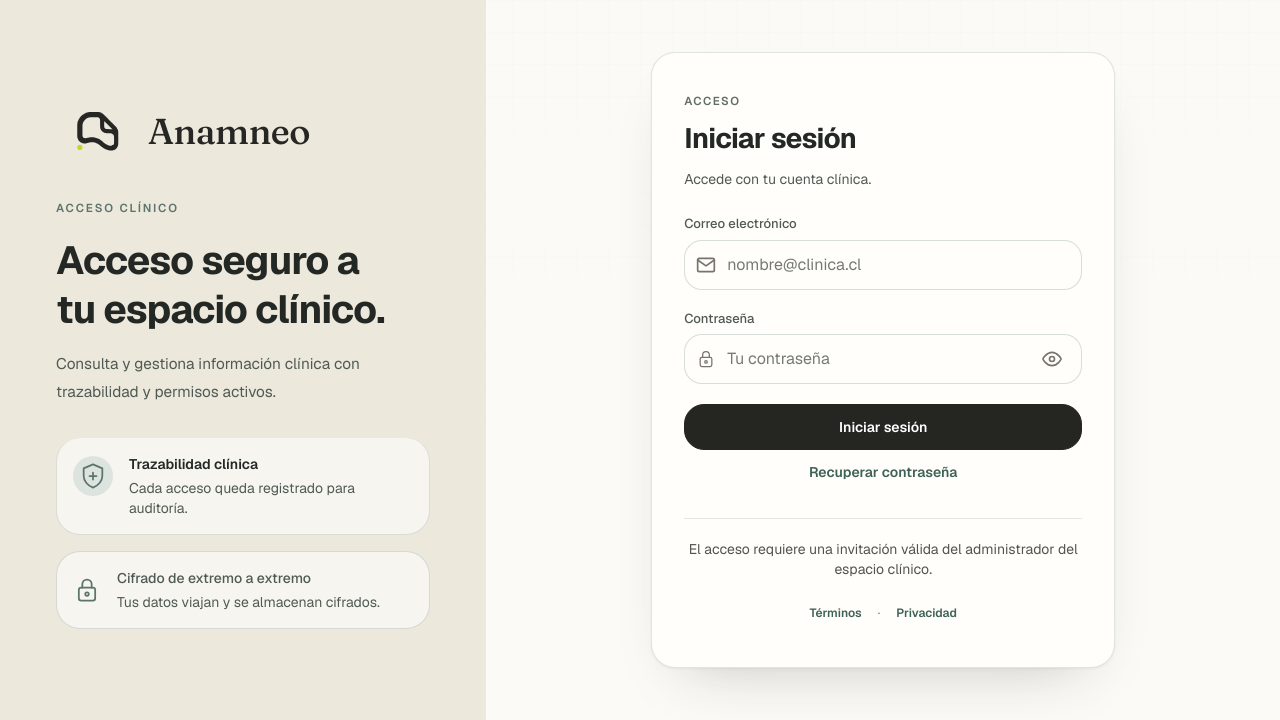
Test: LoginPage › shows lockout detail when backend returns a specific 401 message
Step 1. Type "doc@test.cl" into the field labelled "Correo electrónico" → (883, 264), box [684, 240, 1082, 290]
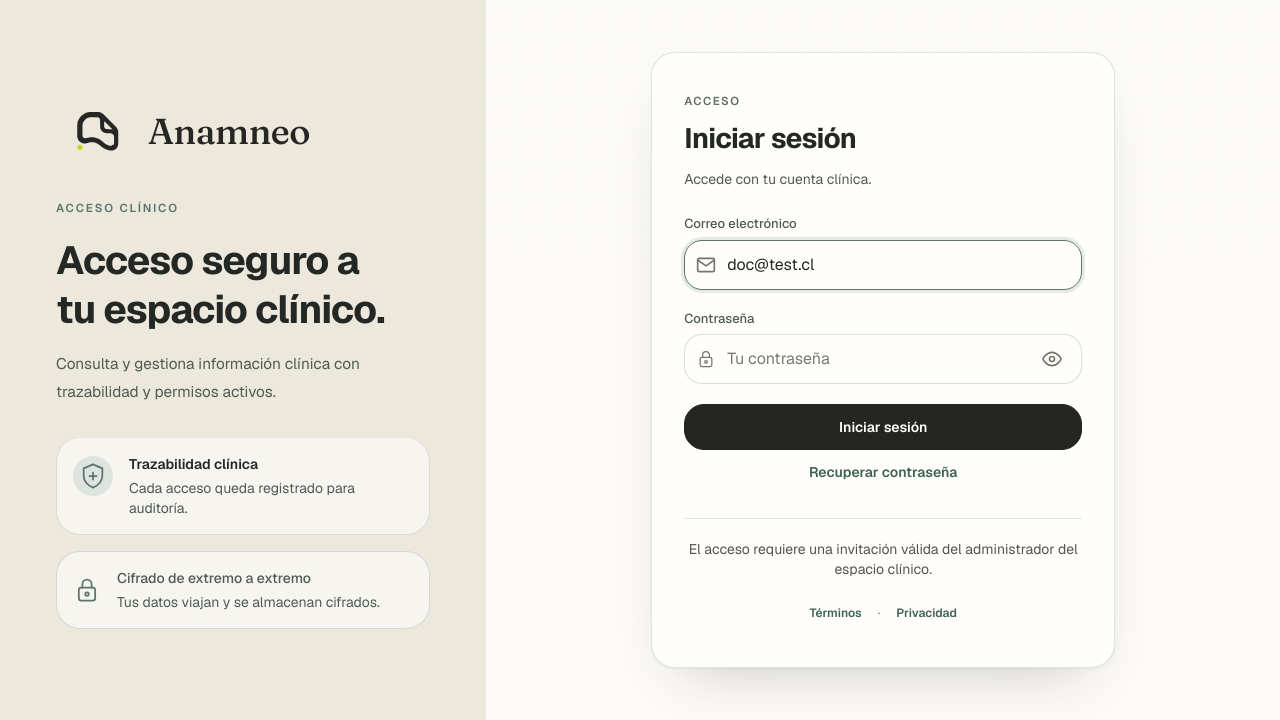
Step 2. Type "wrong" into the password field labelled "Contraseña" → (883, 359), box [684, 334, 1082, 384]
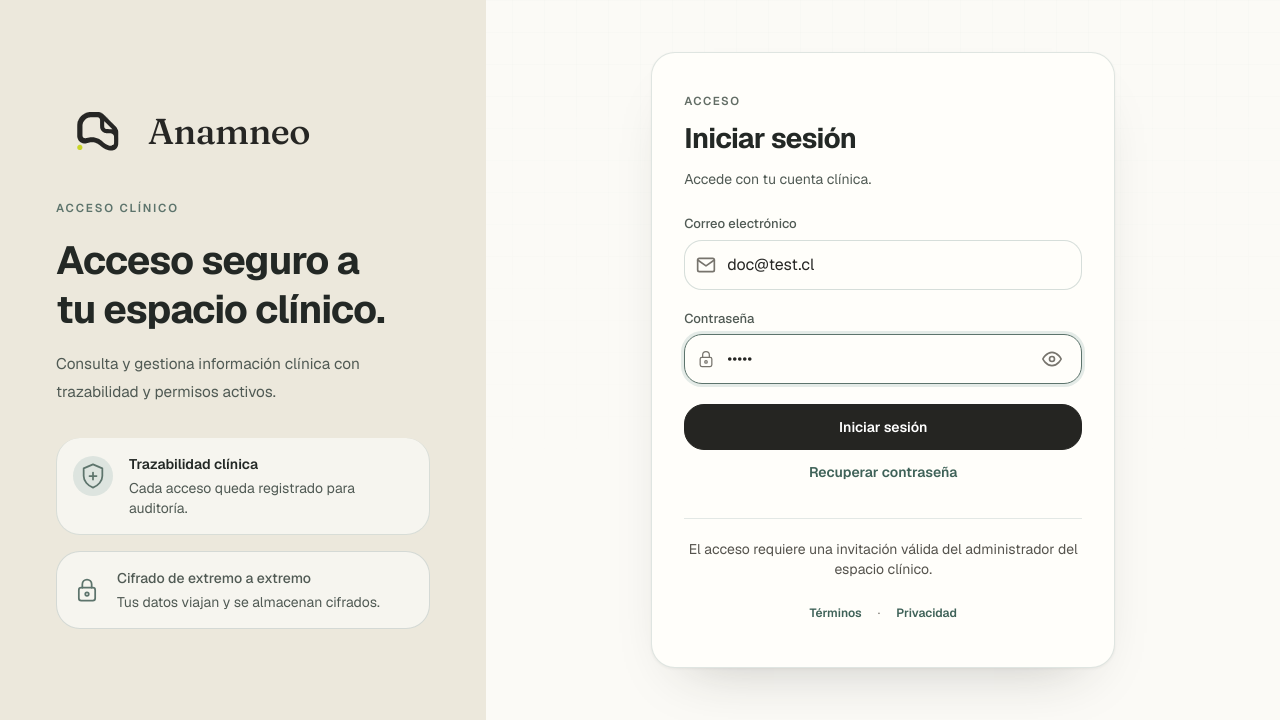
Step 3. Click the button "Iniciar sesión" → (883, 427), box [684, 404, 1082, 450]
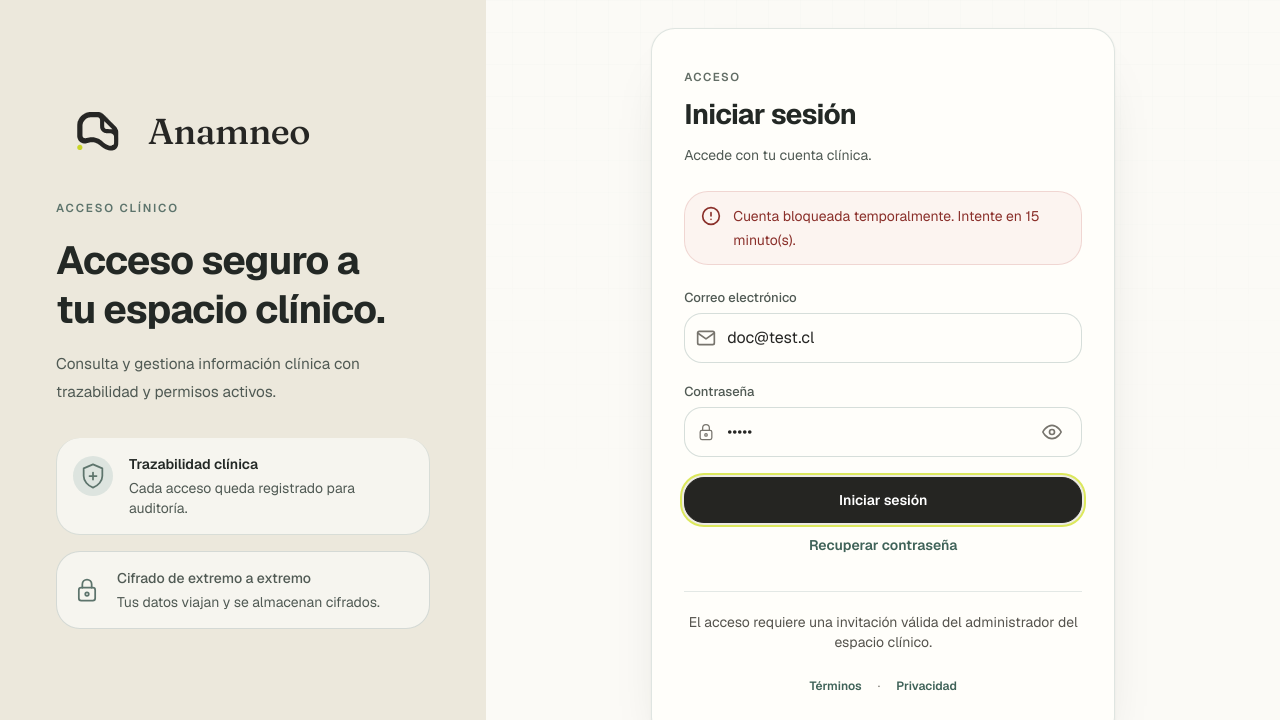
Expected: the text "Cuenta bloqueada temporalmente. Intente en 15 minuto(s)." is shown, [733, 204, 1065, 252]
